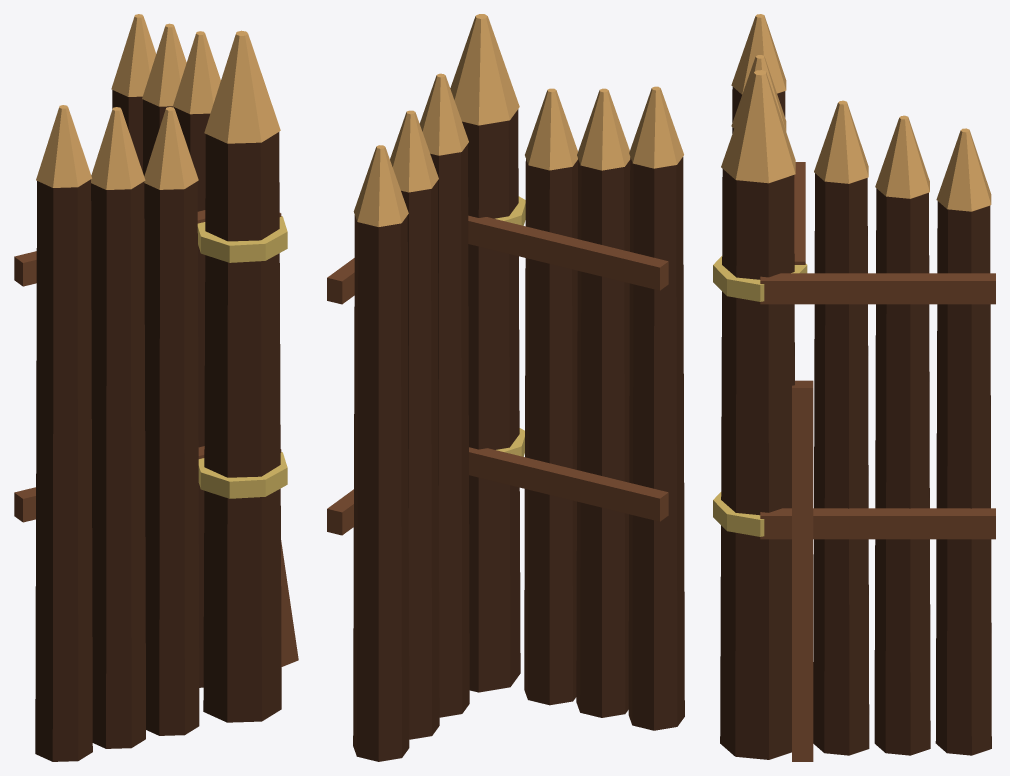
File: palisade_corner.glb
The picture shows the model from 3 angles, left to right: view 1: azimuth 30°, elevation 25°; view 2: azimuth 150°, elevation 25°; view 3: azimuth 270°, elevation 25°; orthographic projection. The views are drawn at different scales.
Parts seen in each view (by area): view 1: Corner_Post_Shaft, Arm_A_Log_0_Shaft, Arm_A_Log_1_Shaft, Arm_A_Log_2_Shaft, Corner_Post_Point, Arm_B_Log_0_Shaft, Arm_A_Log_0_Point, Arm_A_Log_2_Point, Arm_A_Log_1_Point, Arm_B_Log_0_Point, Arm_B_Log_2_Point, Arm_B_Log_1_Point (+7 smaller); view 2: Arm_B_Log_2_Shaft, Arm_A_Log_0_Shaft, Corner_Post_Shaft, Arm_A_Log_1_Shaft, Arm_A_Log_2_Shaft, Arm_B_Log_0_Shaft, Arm_B_Log_1_Shaft, Arm_A_Rail_1, Arm_A_Rail_0, Corner_Post_Point, Arm_A_Log_0_Point, Arm_B_Log_2_Point (+6 smaller); view 3: Corner_Post_Shaft, Arm_B_Log_0_Shaft, Arm_B_Log_1_Shaft, Arm_B_Log_2_Shaft, Corner_Prop, Arm_B_Rail_1, Arm_B_Rail_0, Corner_Post_Point, Arm_B_Log_2_Point, Arm_B_Log_1_Point, Arm_B_Log_0_Point, Arm_A_Log_0_Point (+4 smaller).
Part boxes in pixels (x1,y1,x2,y2): Corner_Post_Shaft: (203,132,281,722); Arm_A_Log_0_Shaft: (35,179,92,761); Arm_A_Log_1_Shaft: (91,181,145,748); Arm_A_Log_2_Shaft: (144,181,199,735); Corner_Post_Point: (204,30,280,143); Arm_B_Log_0_Shaft: (174,107,209,687); Arm_A_Log_0_Point: (36,105,91,187); Arm_A_Log_2_Point: (144,107,198,189); Arm_A_Log_1_Point: (91,107,145,189); Arm_B_Log_0_Point: (173,31,220,114); Arm_B_Log_2_Point: (111,14,156,96); Arm_B_Log_1_Point: (142,23,186,106); Arm_B_Log_2_Shaft: (353,215,409,761); Arm_A_Log_0_Shaft: (628,157,684,730); Corner_Post_Shaft: (462,109,520,692); Arm_A_Log_1_Shaft: (576,159,630,717); Arm_A_Log_2_Shaft: (524,159,577,705); Arm_B_Log_0_Shaft: (430,144,469,717); Arm_B_Log_1_Shaft: (401,180,439,739); Arm_A_Rail_1: (468,215,668,290); Arm_A_Rail_0: (469,447,668,521); Corner_Post_Point: (450,14,519,125); Arm_A_Log_0_Point: (629,86,683,168); Arm_B_Log_2_Point: (353,145,408,226); Corner_Post_Shaft: (720,169,794,759); Arm_B_Log_0_Shaft: (813,173,869,755); Arm_B_Log_1_Shaft: (874,188,930,755); Arm_B_Log_2_Shaft: (935,201,991,755); Corner_Prop: (792,380,813,761); Arm_B_Rail_1: (760,273,995,304); Arm_B_Rail_0: (760,508,995,539); Corner_Post_Point: (721,70,795,183); Arm_B_Log_2_Point: (936,128,991,211); Arm_B_Log_1_Point: (875,115,929,198); Arm_B_Log_0_Point: (814,100,868,183); Arm_A_Log_0_Point: (731,14,786,94).
Bounding box in the file's own units: 1.36 × 3.14 × 1.2.
